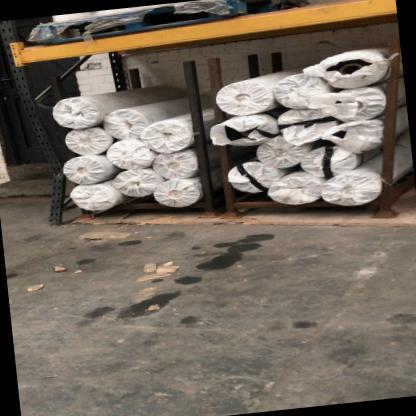vertical_damage: (32, 129, 87, 203)
